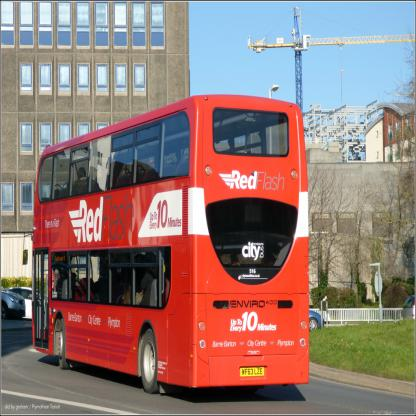Bus: (21, 94, 309, 395)
